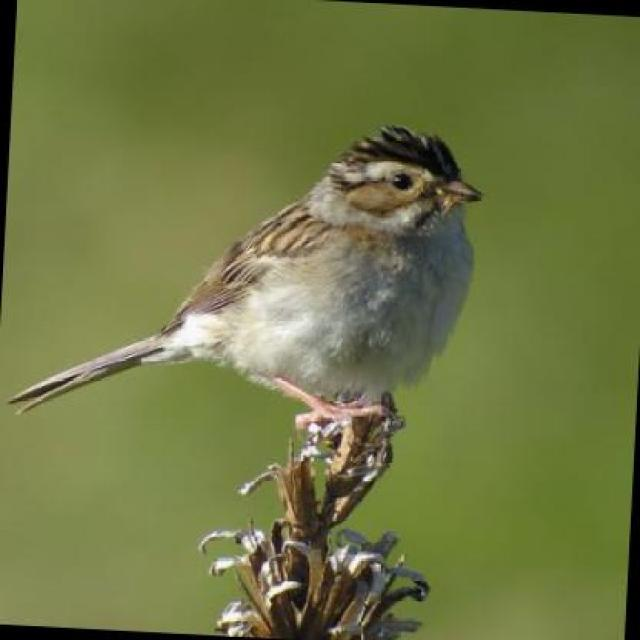Bird: (12, 125, 539, 458)
